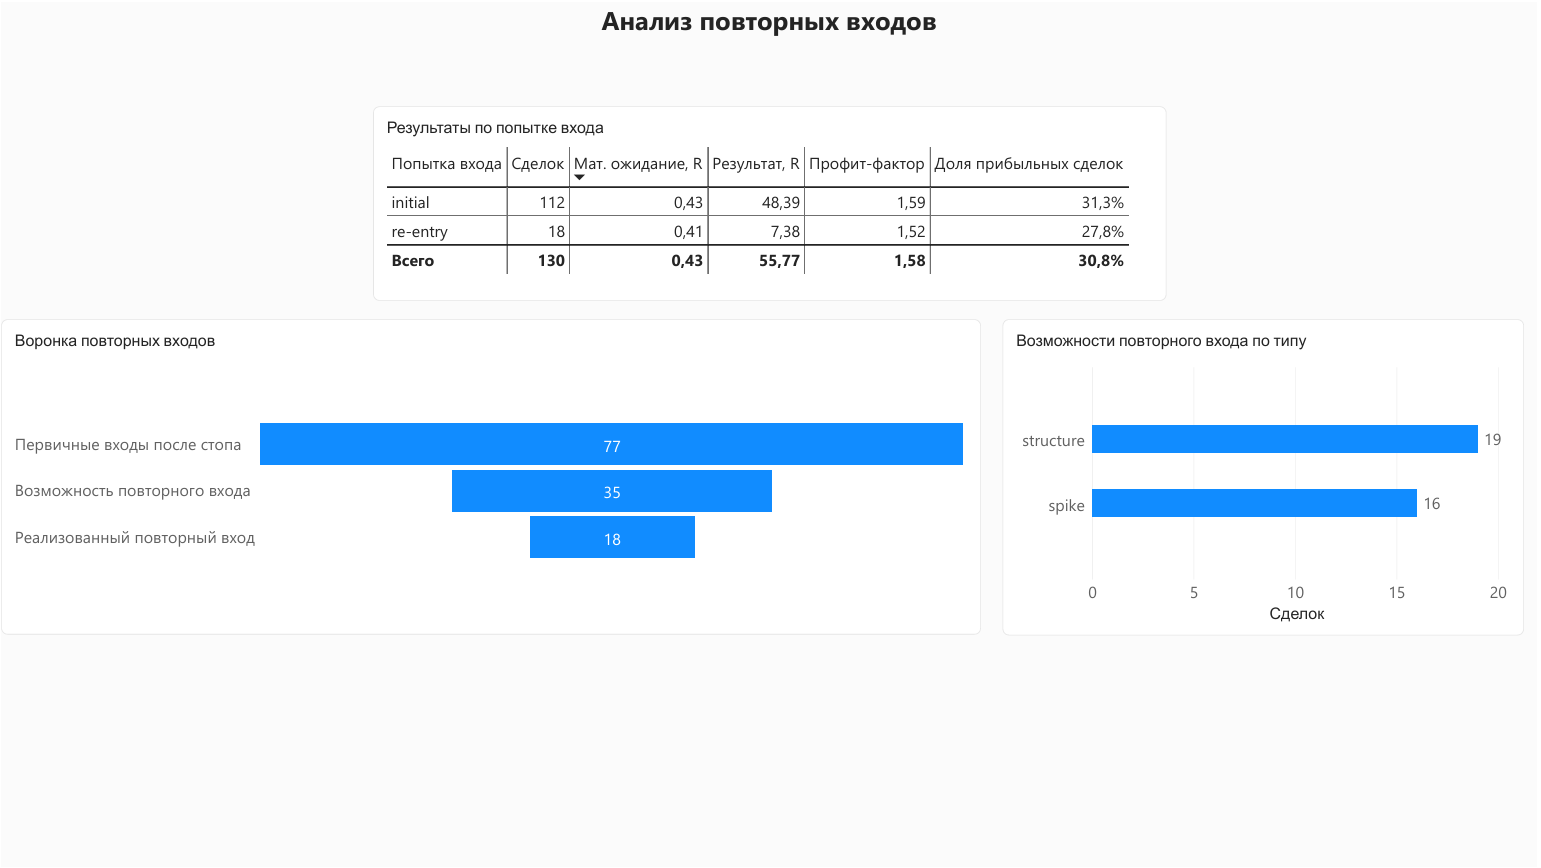

Layout of this report page (visuals, bound fields, positions):
{"tool":"powerbi","page":{"name":"Анализ повторных входов","canvas":[1920,1080],"ordinal":3},"visuals":[{"type":"tableEx","title":"Результаты по попытке входа","fields":{"Values":["fact_trades_eda.entry_attempt","Таблица.Сделок","Таблица.Мат. ожидание","Таблица.Результат","Таблица.Профит-фактор","Таблица.Доля прибыльных сделок"]},"box":[464.6,130.4,992.2,242.8],"z":0},{"type":"funnel","title":"Воронка повторных входов","fields":{"Category":["Этапы повторного входа.Этап"],"Y":["Меры.Количество по этапу"]},"box":[0,395.7,1224.5,394.2],"z":1000},{"type":"clusteredBarChart","title":"Возможности повторного входа по типу","fields":{"Category":["fact_trades_eda.reentry_opportunity"],"Y":["Меры.Сделок"]},"box":[1251.5,395.7,652,395.7],"z":2000},{"type":"textbox","box":[0,0,1920,64.4],"z":3000}]}

Visuals, with their boxes in screenshot pixels (x1, y1, x2, y2), scaled from the page's 1920x1080 canvas onto the 1541x868 screenshot:
"Результаты по попытке входа" tableEx: Rect(373, 105, 1169, 300)
"Воронка повторных входов" funnel: Rect(0, 318, 983, 635)
"Возможности повторного входа по типу" clusteredBarChart: Rect(1004, 318, 1528, 636)
textbox: Rect(0, 0, 1540, 52)
